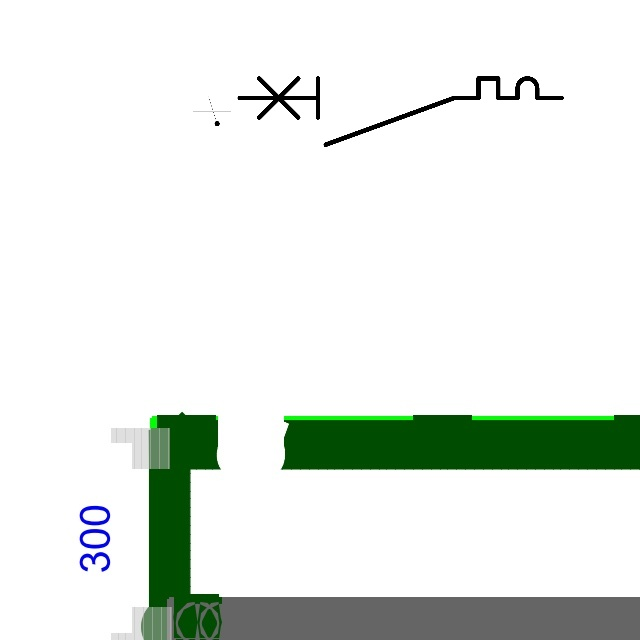interruptor_termomagnetico: (231, 70, 570, 153)
